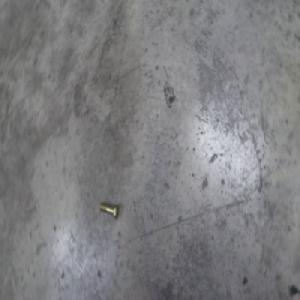Bolt: (100, 194, 121, 216)
